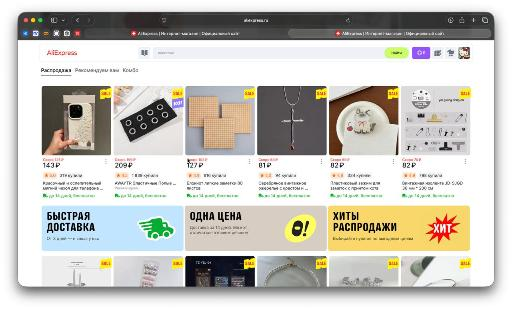aliexpress: (20, 42, 493, 285)
